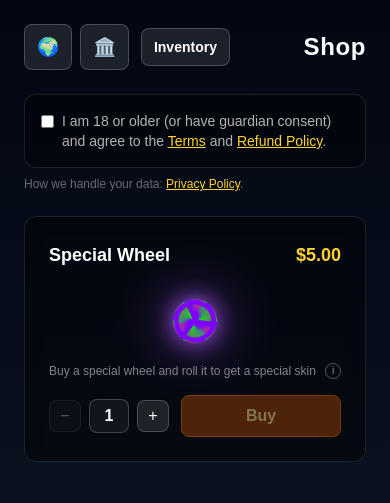
Test: ShopPage › shows the chance of getting bling under the quantity once more than 50 wheels are picked
Replace the text in the field named "Quantity" with "50": point(109, 416) [89, 399, 129, 433]
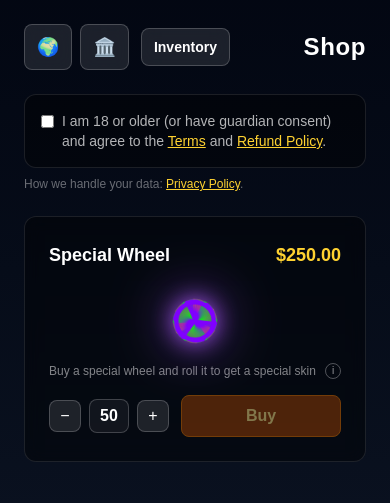
Expected: the text "chance of getting bling" is not shown
Replace the text in the field named "Quantity" with "51": point(109, 416) [89, 399, 129, 433]
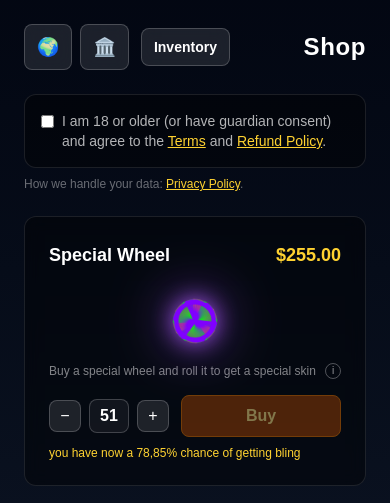
Expected: the text "you have now a 78,85% chance of getting bling" is shown, [49, 445, 341, 461]
Replace the text in the field named "Quantity" with "300": point(109, 416) [89, 399, 129, 433]
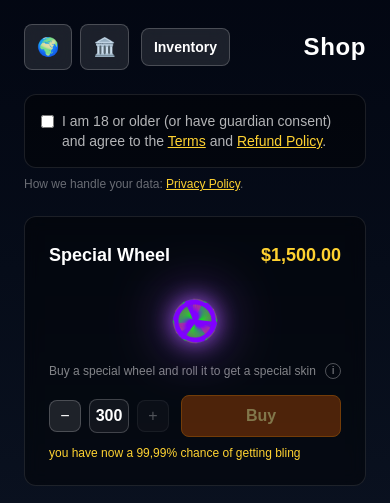
Expected: the text "you have now a 99,99% chance of getting bling" is shown, [49, 445, 341, 461]
